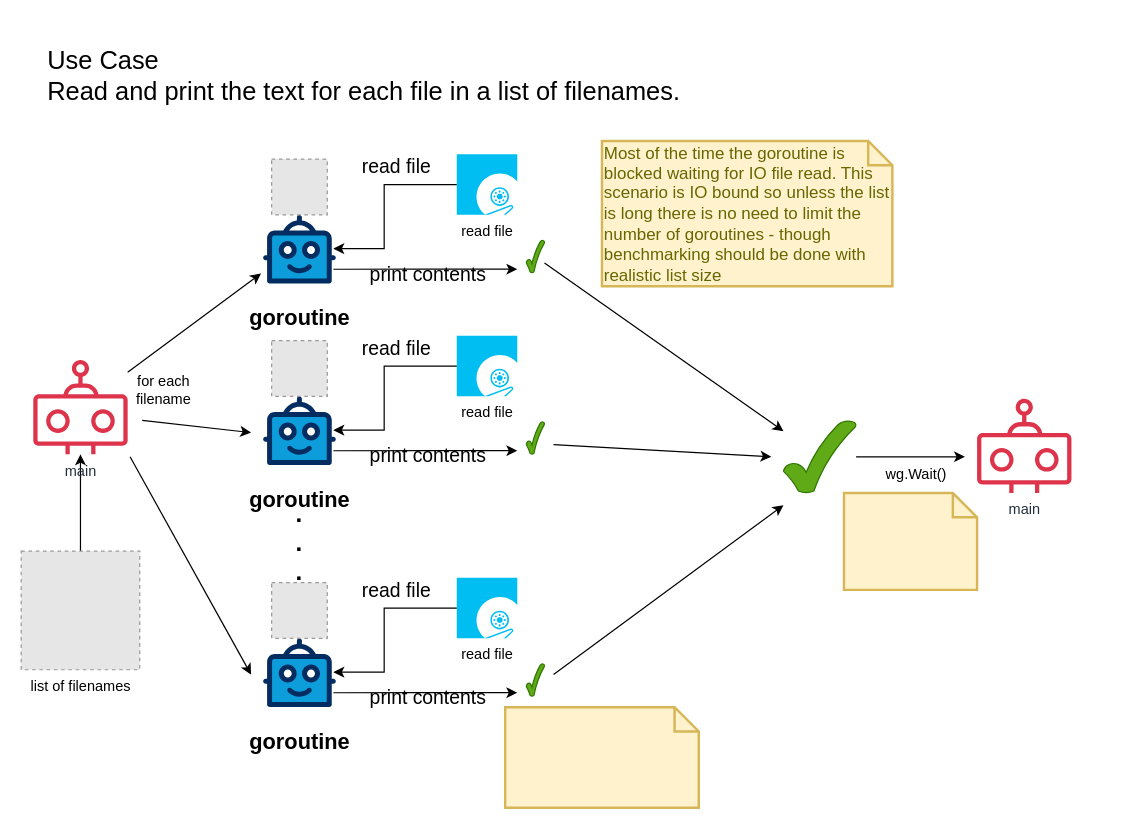
This 1131x829 diagram has some shape labels left out. Grey dashed boxes stand in for pictures. The centre of each missing label's shape, as x and y in pixels:
"Could alternatively push the file contents into a channel for further processing" belongs at pixel 601 756.
"Could use a signalling channel instead of a wait group" belongs at pixel 910 540.
